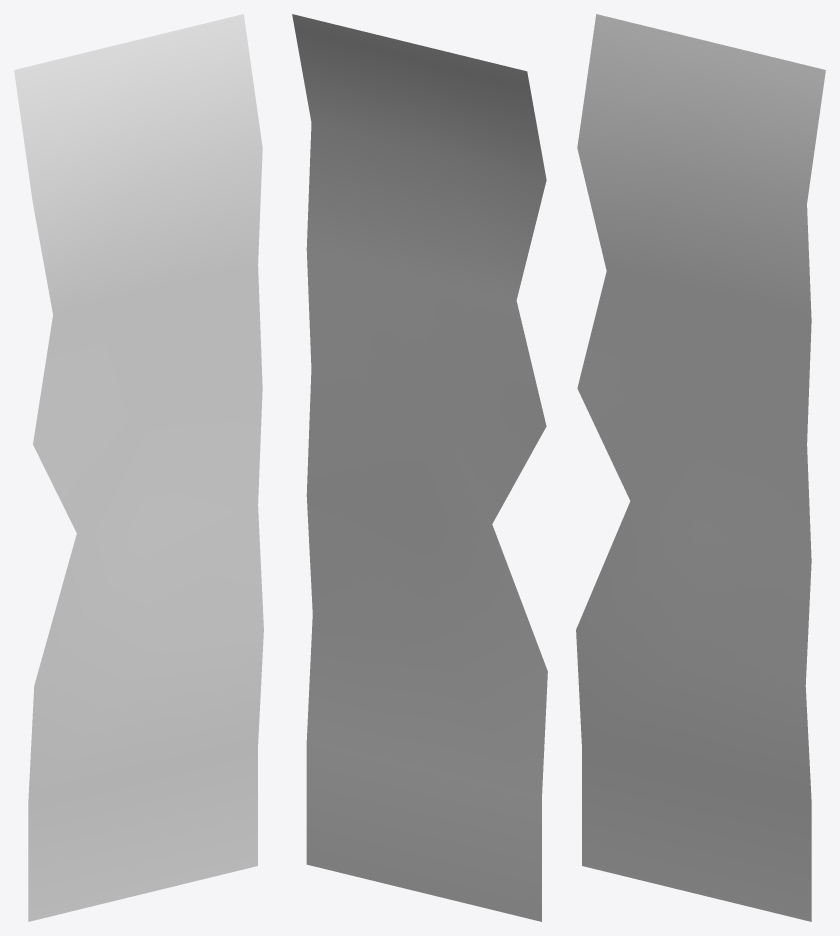
The model's file is sm_env_longvine.fbx.
3 renders of one model, left to right at view 1: azimuth 30°, elevation 25°; view 2: azimuth 150°, elevation 25°; view 3: azimuth 330°, elevation 25°, orthographic. The views are drawn at different scales.
Visible parts, largest first — view 1: sm_env_longvine; view 2: sm_env_longvine; view 3: sm_env_longvine.
Boxes of the visible parts, x1,y1,x2,y2 form: sm_env_longvine: (14,14,263,921); sm_env_longvine: (292,14,547,921); sm_env_longvine: (576,14,825,921).
Bounding box in the file's own units: 66.81 × 234 × 10.17.
